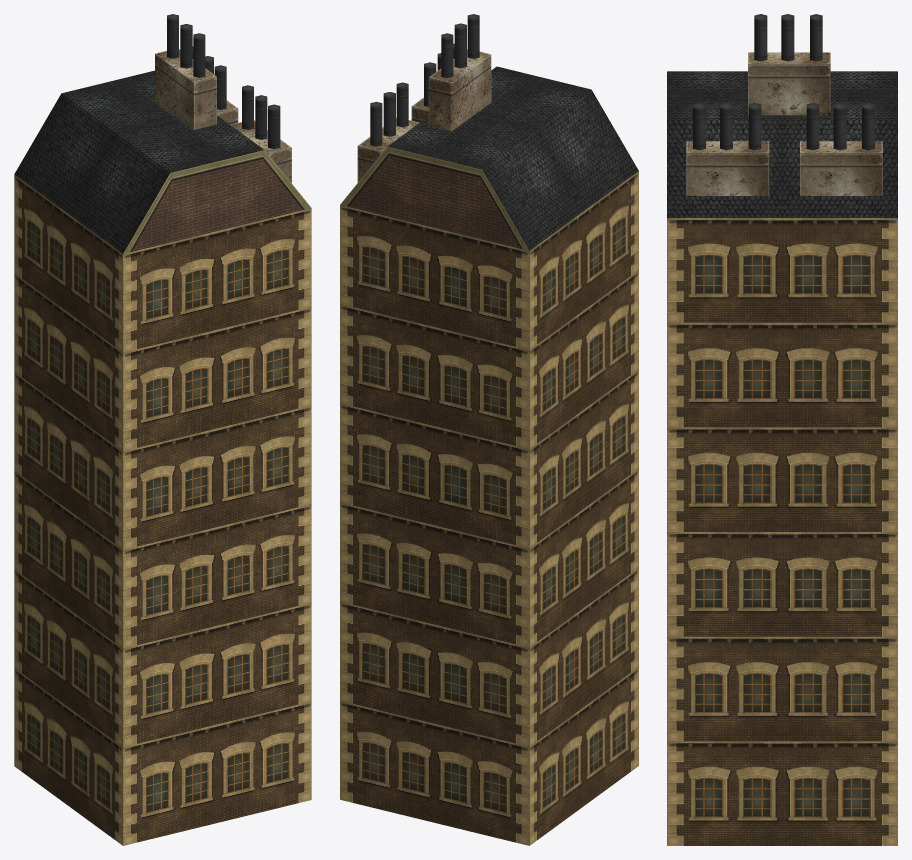
File: Building3.FBX
3 renders of one model, left to right at view 1: azimuth 30°, elevation 25°; view 2: azimuth 150°, elevation 25°; view 3: azimuth 270°, elevation 25°, orthographic. The views are drawn at different scales.
Visible parts, largest first — view 1: Building3; view 2: Building3; view 3: Building3.
Boxes of the visible parts, x1,y1,x2,y2 form: Building3: (14,14,311,845); Building3: (340,14,638,845); Building3: (667,14,897,845).
Size of the model in its own units: 800 by 3033 by 800.
